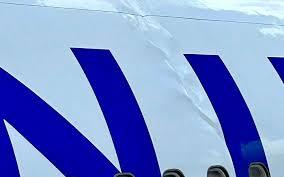Fuselage_damage: (108, 0, 239, 136)
